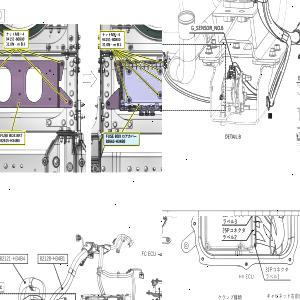PartNumber: (0, 254, 25, 261), (40, 255, 65, 262), (6, 36, 25, 42), (102, 36, 121, 42), (105, 139, 126, 144), (0, 138, 20, 143)
